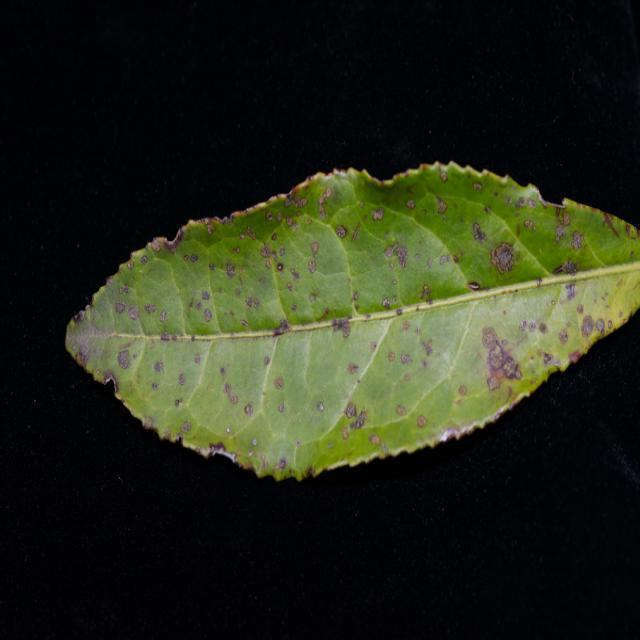Tea red rust: (53, 164, 639, 434)
